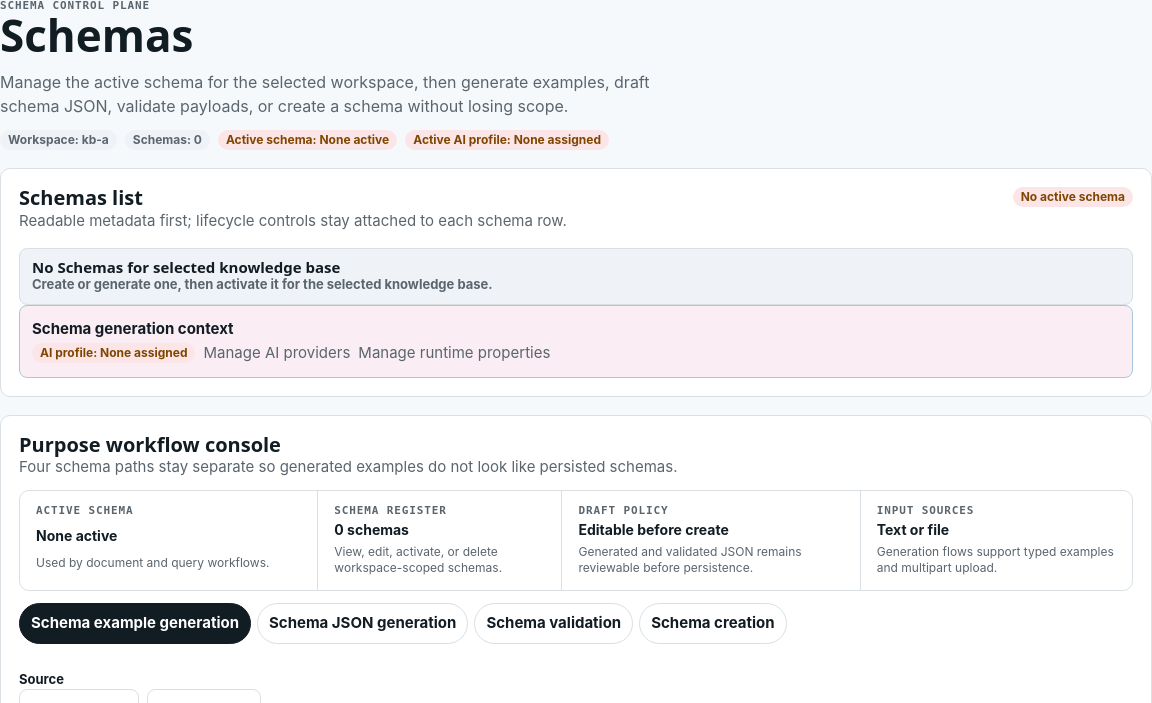
it: controller pages tabs › renders schemas purpose tabs
Expected: the tab "Schema example generation" is shown, [19, 603, 251, 644]
Expected: the tab "Schema JSON generation" is shown, [257, 603, 468, 644]
Step 1. Click the tab "Schema validation" → (554, 624), box [474, 603, 633, 644]
(page scrolled)
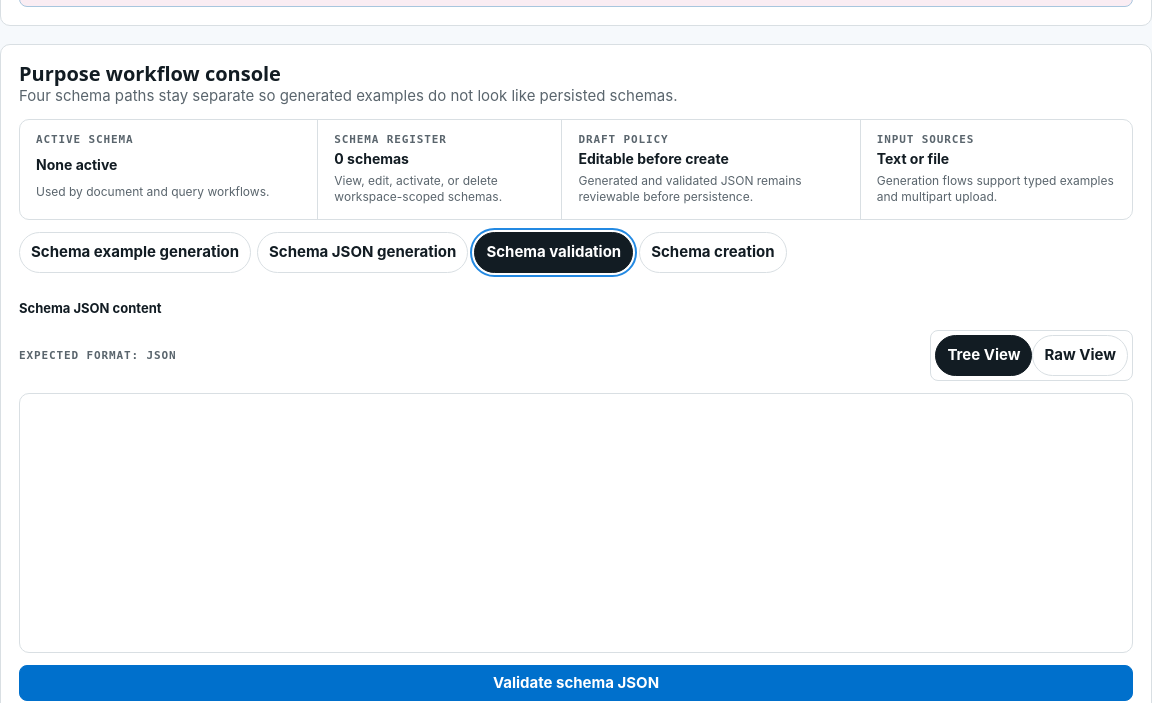
Expected: the element named "Schema JSON content" is shown, [19, 393, 1133, 653]
